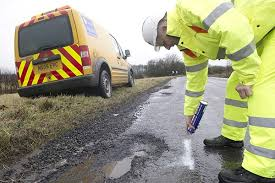pothole: (37, 130, 162, 183)
